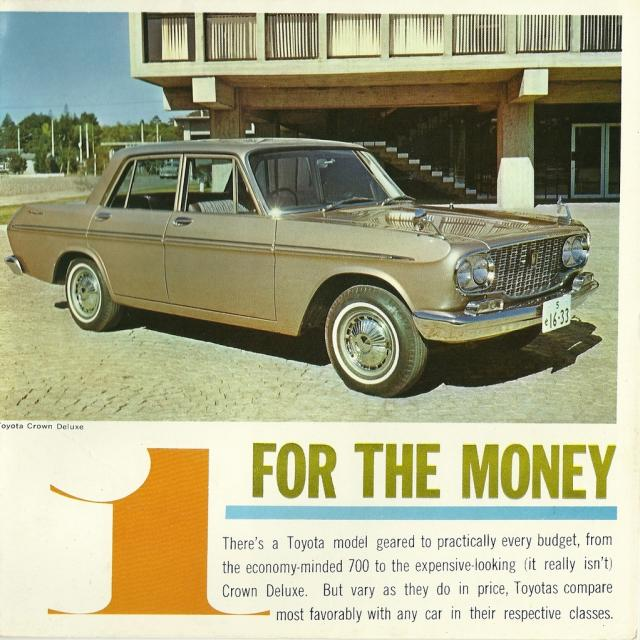car: (31, 123, 627, 392)
